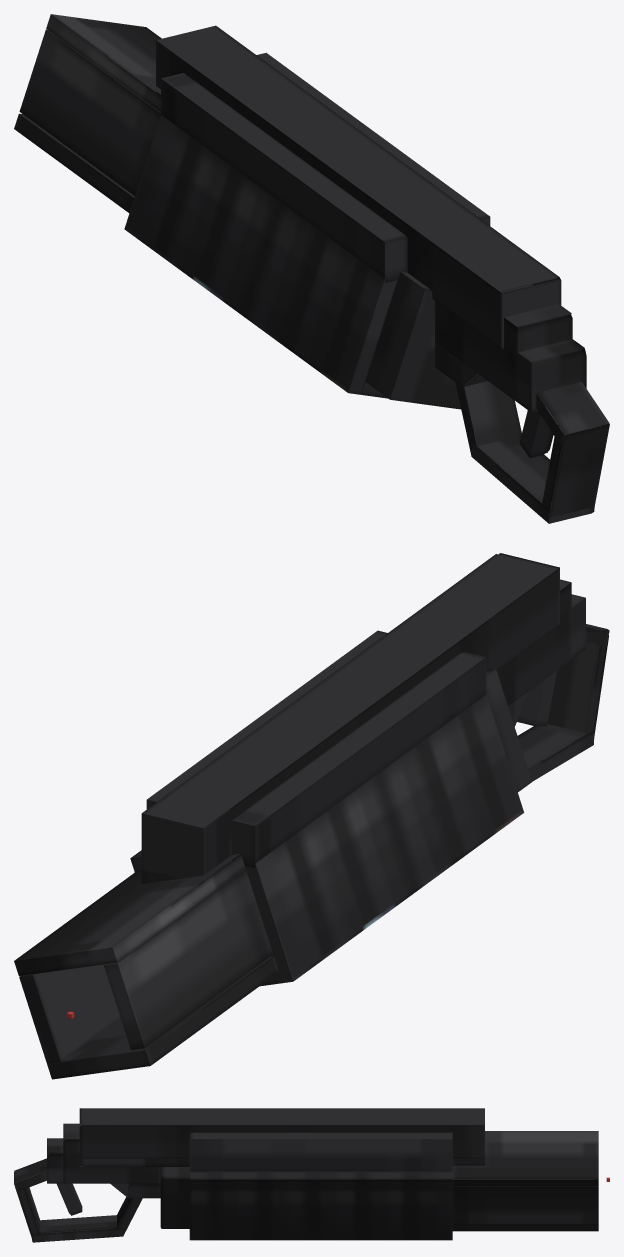
The picture shows the model from 3 angles, top to bottom: view 1: azimuth 30°, elevation 25°; view 2: azimuth 150°, elevation 25°; view 3: azimuth 270°, elevation 25°; orthographic projection. The views are drawn at different scales.
Parts seen in each view (by area): view 1: launcherchamber_10, launcher2_12; view 2: launcherchamber_10, launcher2_12; view 3: launcherchamber_10, launcher2_12.
Boxes of the visible parts, left/top/right/bottom form: launcherchamber_10: left=14, top=14, right=490, bottom=398; launcher2_12: left=156, top=25, right=609, bottom=523; launcherchamber_10: left=14, top=630, right=523, bottom=1079; launcher2_12: left=141, top=553, right=609, bottom=885; launcherchamber_10: left=189, top=1131, right=598, bottom=1240; launcher2_12: left=14, top=1108, right=484, bottom=1242.
Size of the model in its own units: 0.4128 by 0.5072 by 2.3.
